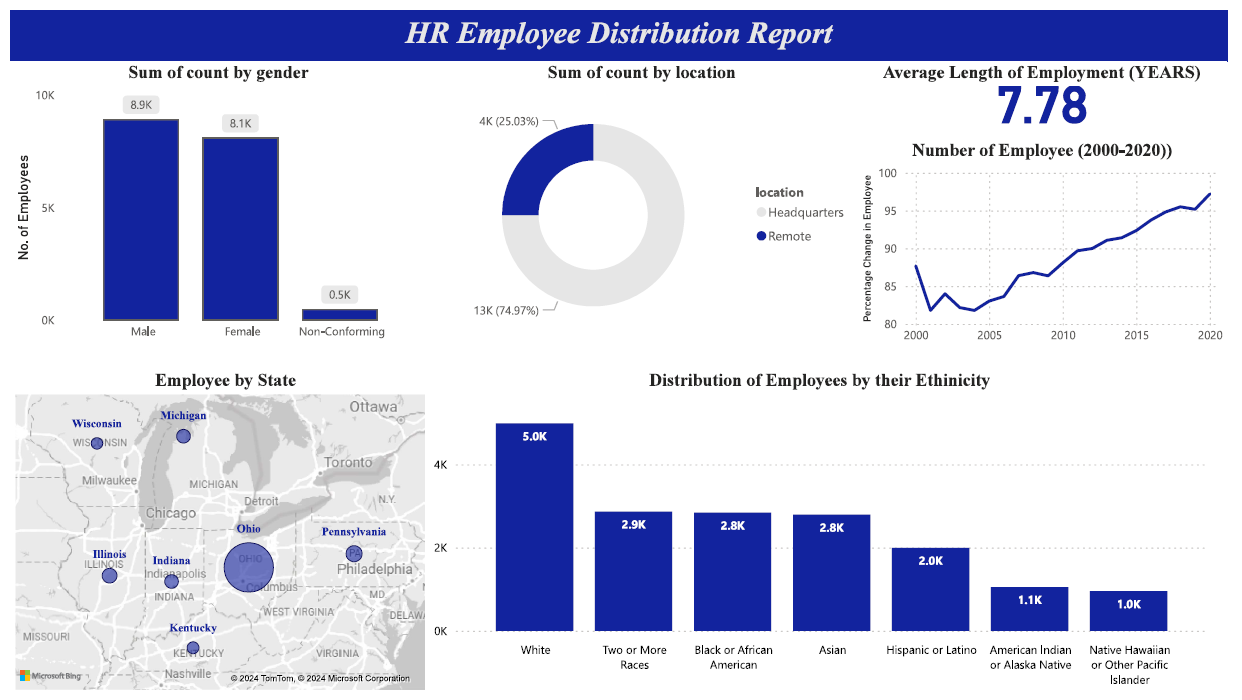

The page's visual inventory and layout, read from the dashboard file:
{"tool":"powerbi","page":{"name":"Page 1","canvas":[1280,720],"ordinal":0},"visuals":[{"type":"textbox","box":[0,0,1280.5,53.8],"z":0},{"type":"card","title":"Average Length of Employment (YEARS)","fields":{"Values":["Sum(Question 5 - Avg_Employee_Duration(yrs).Avg_Employee_Duration(yrs))"]},"box":[890.7,53.8,388.5,77],"z":1000},{"type":"columnChart","fields":{"Category":["Question 1 - Gender.gender"],"Y":["Sum(Question 1 - Gender.count)"]},"box":[0,53.8,437.4,301.8],"z":2000},{"type":"donutChart","fields":{"Category":["Question 4 - Location.location"],"Y":["Sum(Question 4 - Location.count)"]},"box":[437.4,53.8,453.3,301.8],"z":3000},{"type":"lineChart","title":"Number of Employee (2000-2020))","fields":{"Category":["Question 10 - Turnover--Employee_hire_count_percent_change.year"],"Y":["Sum(Question 10 - Turnover--Employee_hire_count_percent_change.net_%_change)"]},"box":[890.7,135.6,389.8,224.8],"z":4000},{"type":"map","title":"Employee by State","fields":{"Category":["Question 9 - Turnover--Employee_count_by_locationstate.location_state"],"Size":["Sum(Question 9 - Turnover--Employee_count_by_locationstate.count)"]},"box":[0,377.5,452.1,342.1],"z":5000},{"type":"clusteredColumnChart","title":"Distribution of Employees by their Ethinicity","fields":{"Y":["Sum(Question 2 - Race.count)"],"Category":["Question 2 - Race.race"]},"box":[437.4,377.5,828.4,342.1],"z":6000}]}

Visuals, with their boxes in screenshot pixels (x1, y1, x2, y2), scaled from the page's 1280x720 canvas onto the 1242x700 screenshot:
textbox: detection(0, 0, 1241, 52)
"Average Length of Employment (YEARS)" card: detection(864, 52, 1241, 127)
columnChart - Question 1 - Gender.gender x Sum(Question 1 - Gender.count): detection(0, 52, 424, 346)
donutChart - Question 4 - Location.location x Sum(Question 4 - Location.count): detection(424, 52, 864, 346)
"Number of Employee (2000-2020))" lineChart: detection(864, 132, 1241, 350)
"Employee by State" map: detection(0, 367, 439, 699)
"Distribution of Employees by their Ethinicity" clusteredColumnChart: detection(424, 367, 1228, 699)
